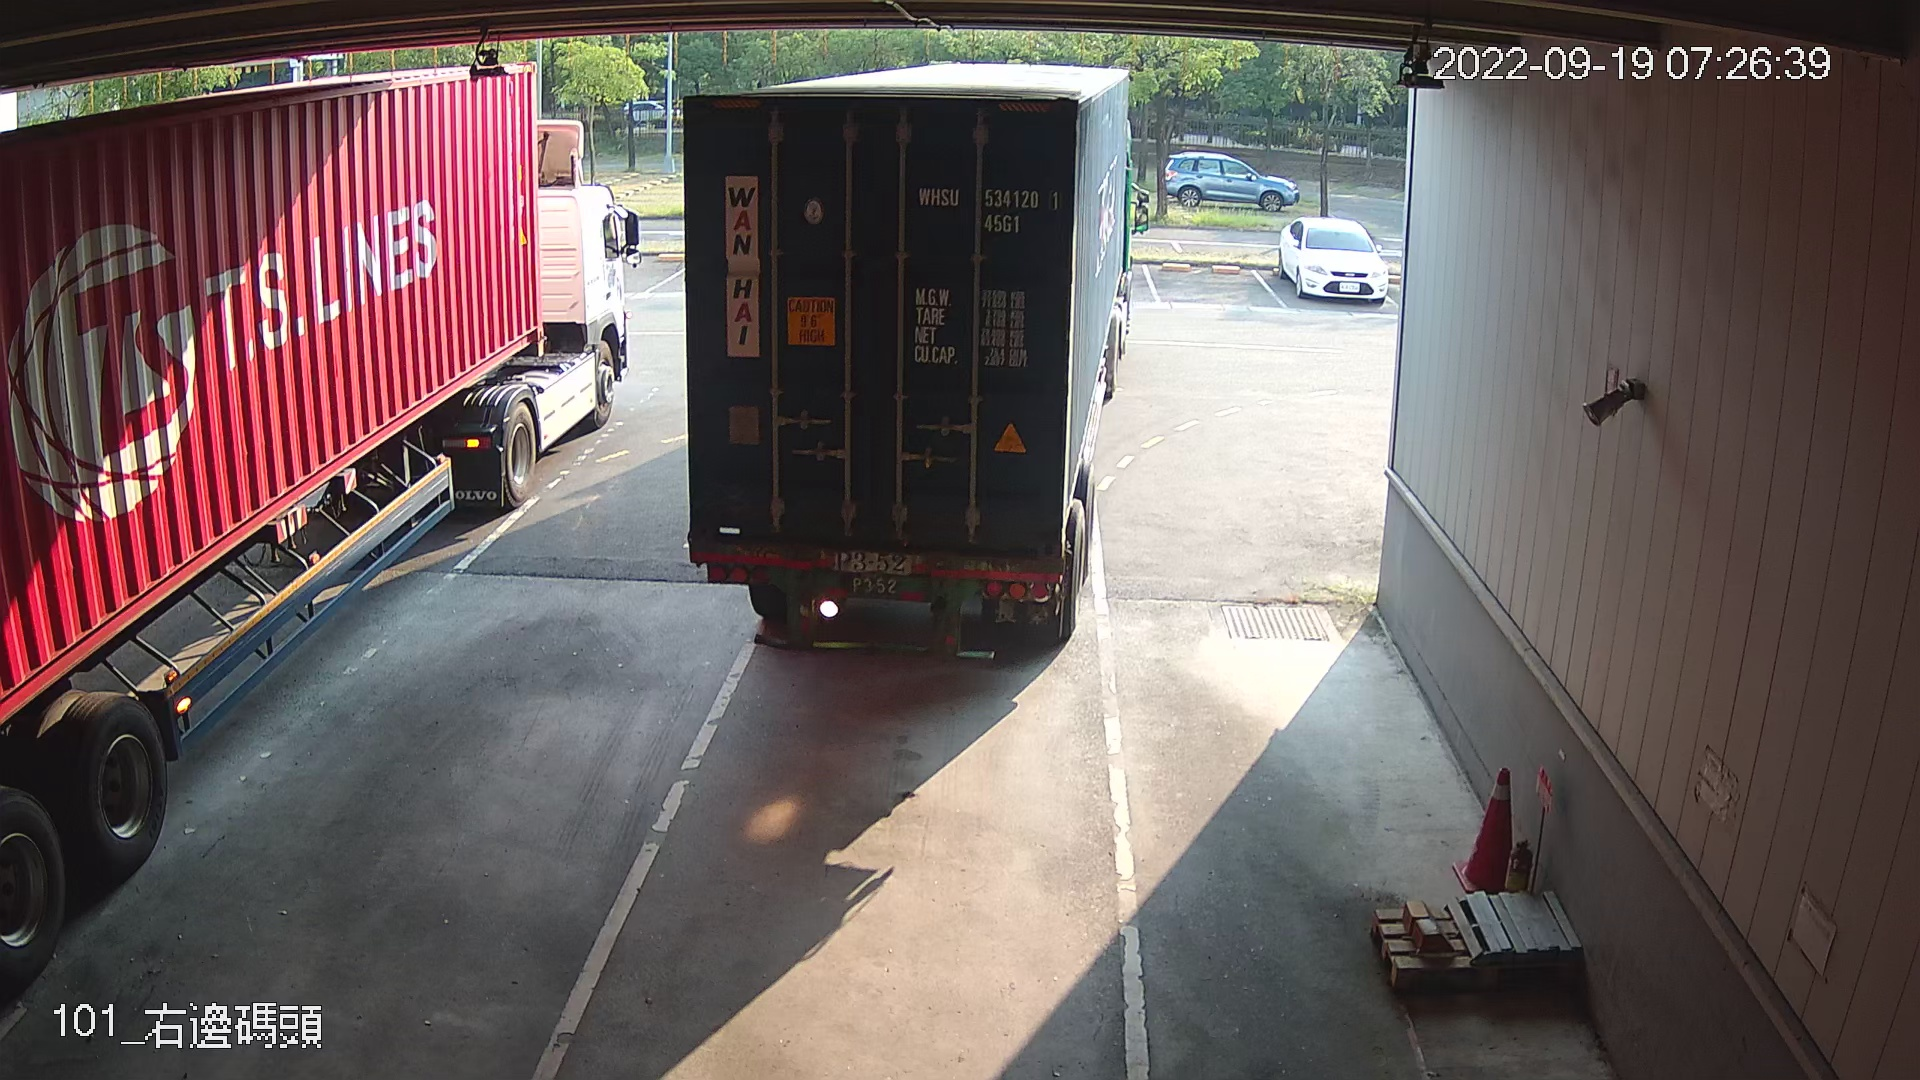container: (913, 179, 1064, 245)
